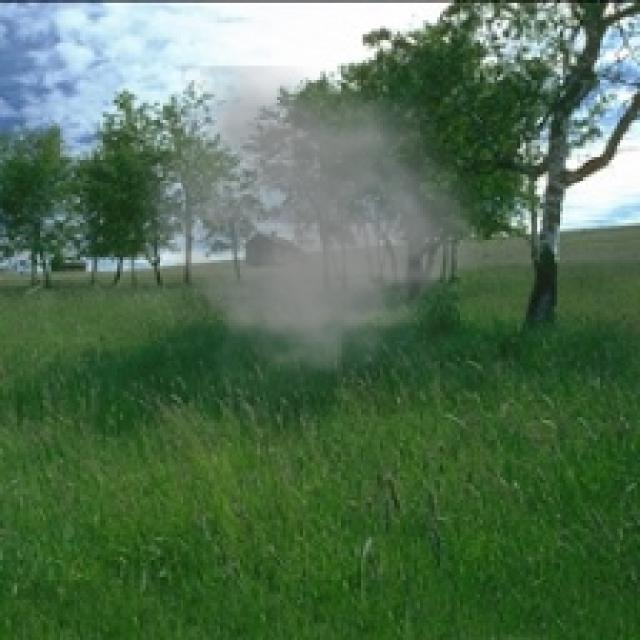Smoke: (123, 66, 500, 412)
